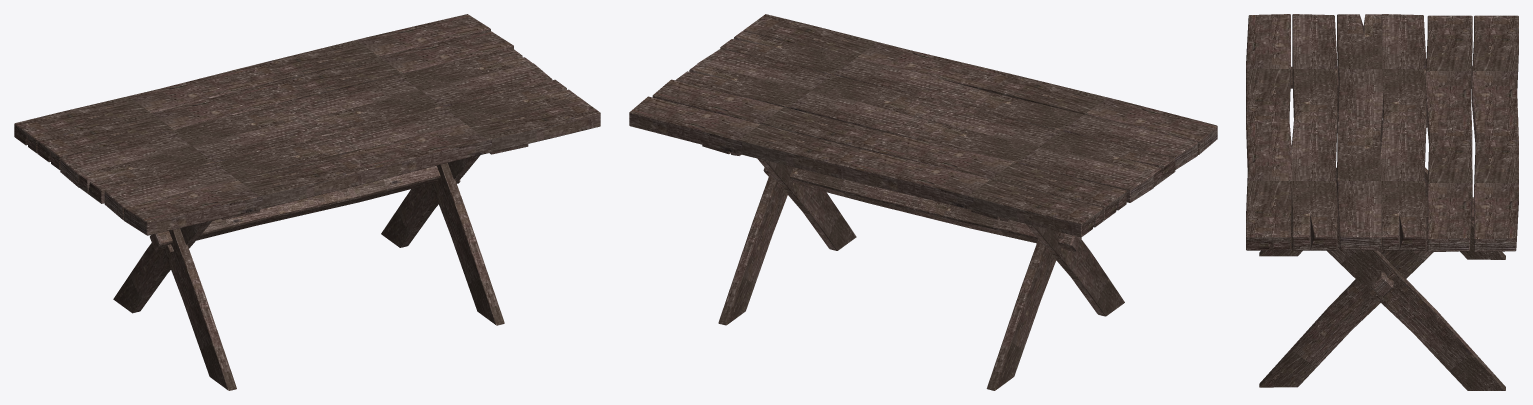
Rendered from table.FBX.
3 views of the same model, side by side, from view 1: azimuth 30°, elevation 25°; view 2: azimuth 150°, elevation 25°; view 3: azimuth 270°, elevation 25° (orthographic).
Visible parts, largest first — view 1: Box135, Box130, Box131, Box133, Box134, Box132, Box143, Box140, Box141, Box142, Box139; view 2: Box130, Box131, Box132, Box135, Box134, Box133, Box143, Box142, Box139, Box141, Box140; view 3: Box131, Box130, Box134, Box135, Box132, Box133, Box139, Box140, Box142, Box141, Box143.
Part boxes in pixels (x1,y1,x2,y2): Box135: [124, 96, 600, 235]; Box130: [14, 14, 490, 153]; Box131: [37, 31, 513, 169]; Box133: [79, 63, 552, 203]; Box134: [104, 79, 577, 220]; Box132: [60, 47, 532, 187]; Box143: [150, 166, 440, 250]; Box140: [431, 163, 504, 325]; Box141: [163, 228, 236, 390]; Box142: [113, 220, 212, 313]; Box139: [381, 155, 480, 247]; Box130: [629, 96, 1103, 237]; Box131: [652, 79, 1126, 220]; Box132: [675, 63, 1153, 202]; Box135: [743, 14, 1217, 154]; Box134: [720, 31, 1197, 169]; Box133: [697, 48, 1175, 187]; Box143: [763, 167, 1081, 251]; Box142: [986, 239, 1056, 390]; Box139: [718, 174, 787, 325]; Box141: [1026, 224, 1124, 316]; Box140: [757, 158, 856, 250]; Box131: [1425, 15, 1472, 252]; Box130: [1471, 15, 1518, 252]; Box134: [1291, 14, 1337, 250]; Box135: [1246, 14, 1292, 250]; Box132: [1379, 14, 1426, 250]; Box133: [1337, 14, 1383, 250]; Box139: [1327, 220, 1505, 390]; Box140: [1259, 220, 1433, 387]; Box142: [1337, 89, 1505, 259]; Box141: [1259, 116, 1427, 256]; Box143: [1371, 142, 1393, 296].
Size of the model in its own units: 21.79 by 8.82 by 11.19.
